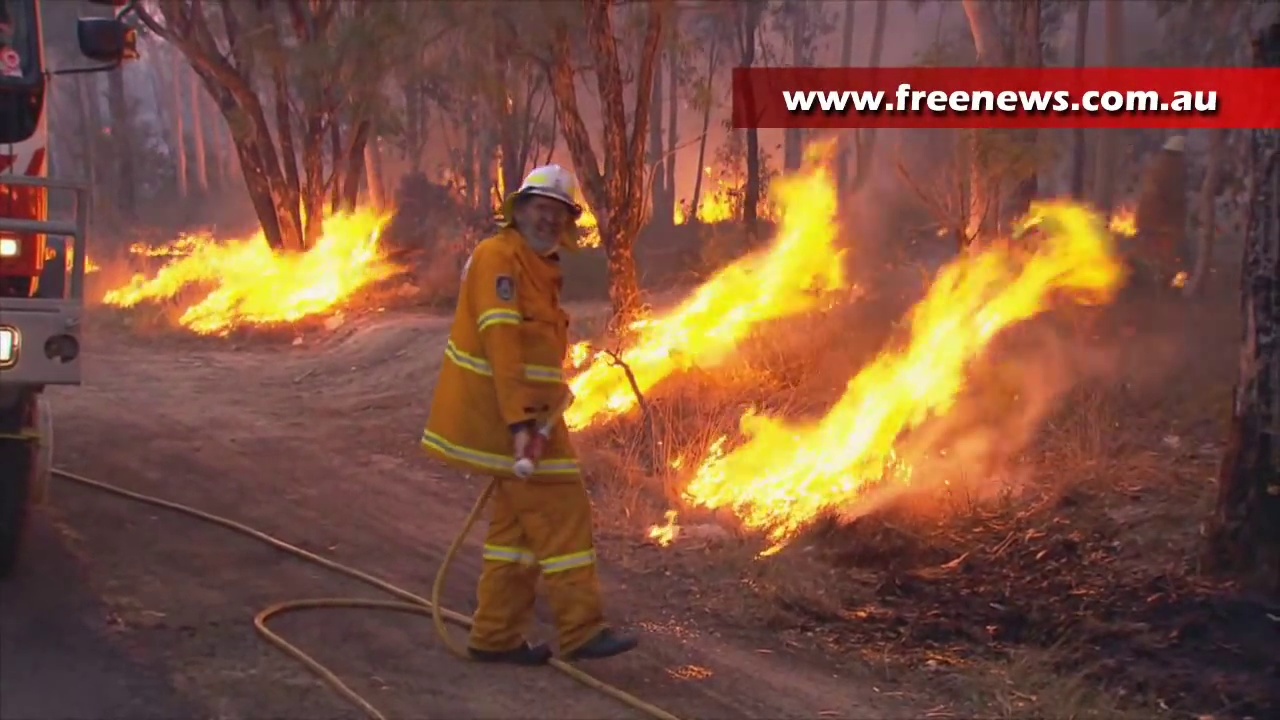fire: (686, 194, 1121, 520), (568, 170, 839, 426), (112, 203, 388, 331)
